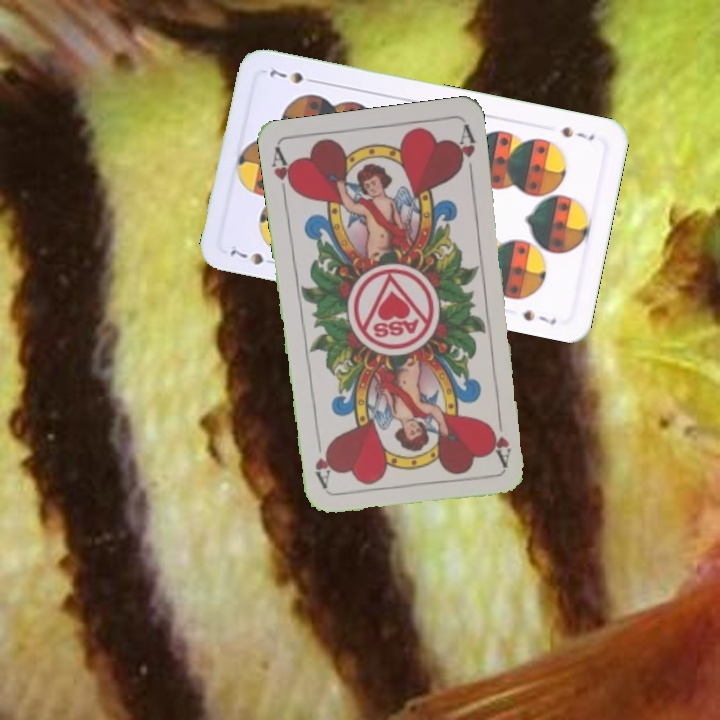HA: (267, 145, 298, 204), (489, 409, 514, 468)
S7: (226, 245, 281, 268), (557, 122, 597, 143)
